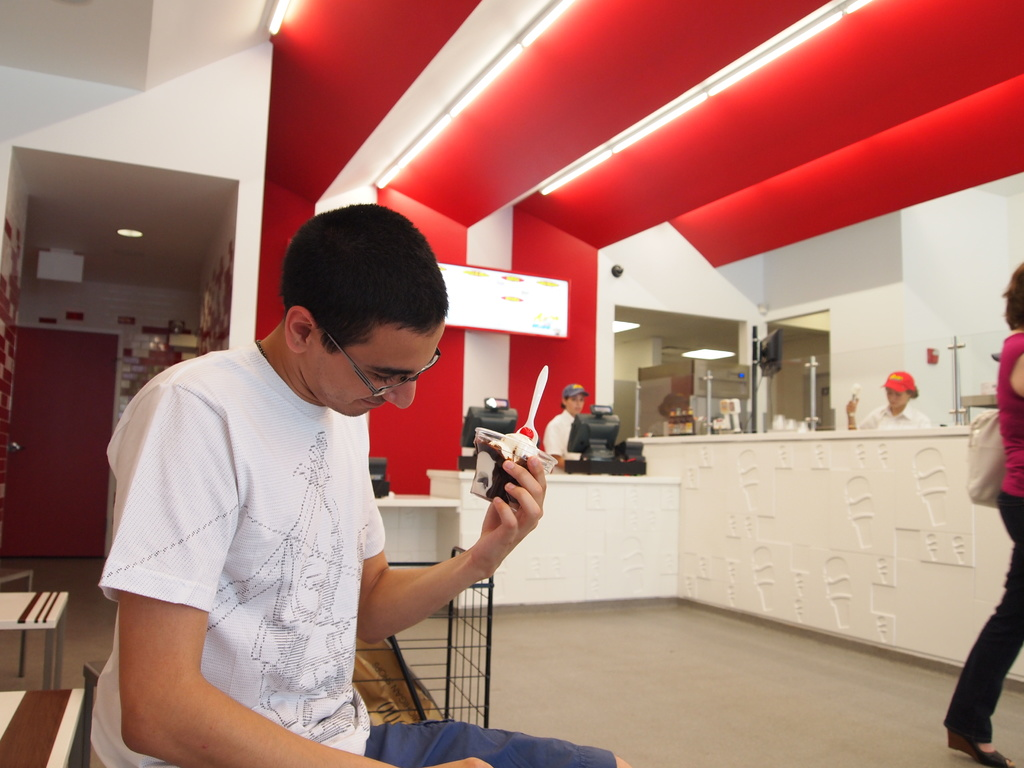Human_hand: (469, 444, 559, 560), (419, 753, 494, 767), (843, 394, 861, 415)
